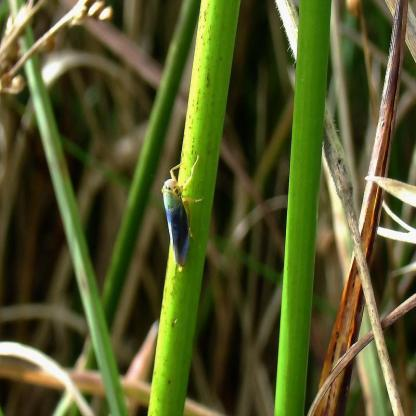Green-Leafhopper: (158, 157, 204, 275)
